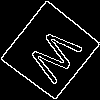W: (25, 26, 91, 91)
